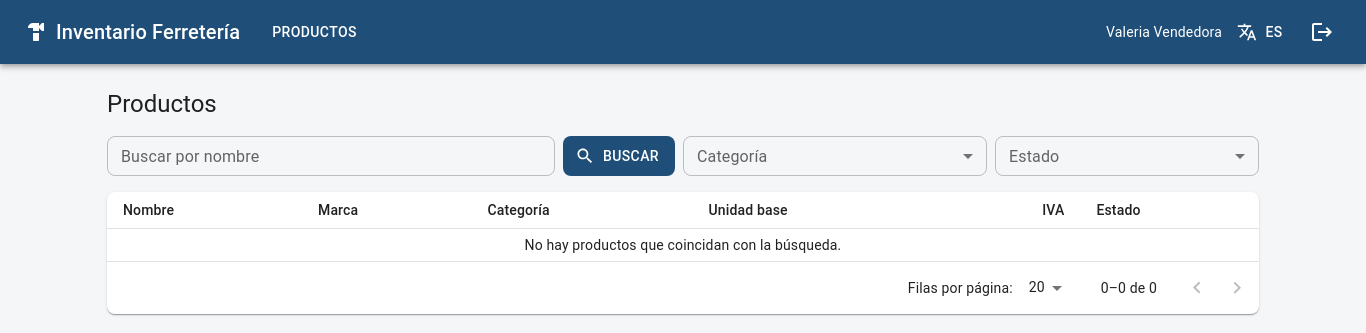
it: LanguageSelector › [RNF-INT-003] los textos propios de MUI siguen al idioma elegido
Expected: the text "Filas por página:" is shown, [908, 278, 1013, 298]
Click the button with aria-label "Cambiar idioma": (1262, 32) [1230, 14, 1294, 50]
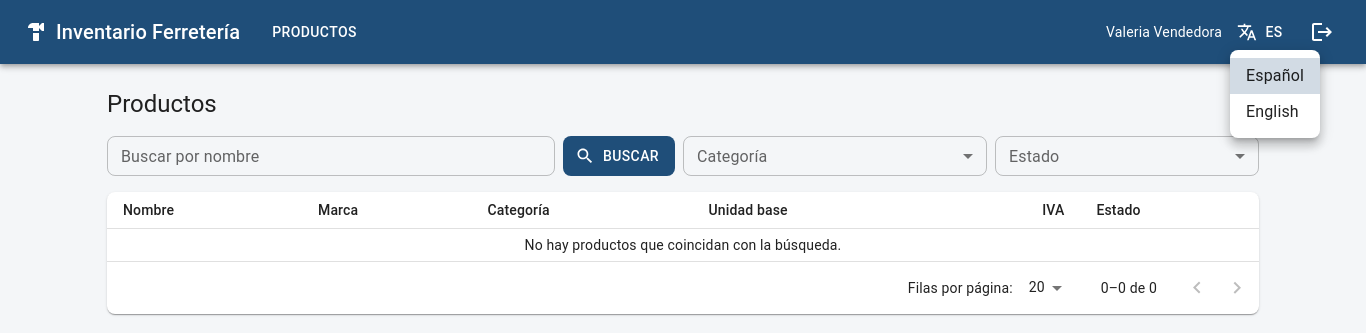
Click the menu item "English": (1272, 112) [1246, 102, 1299, 121]
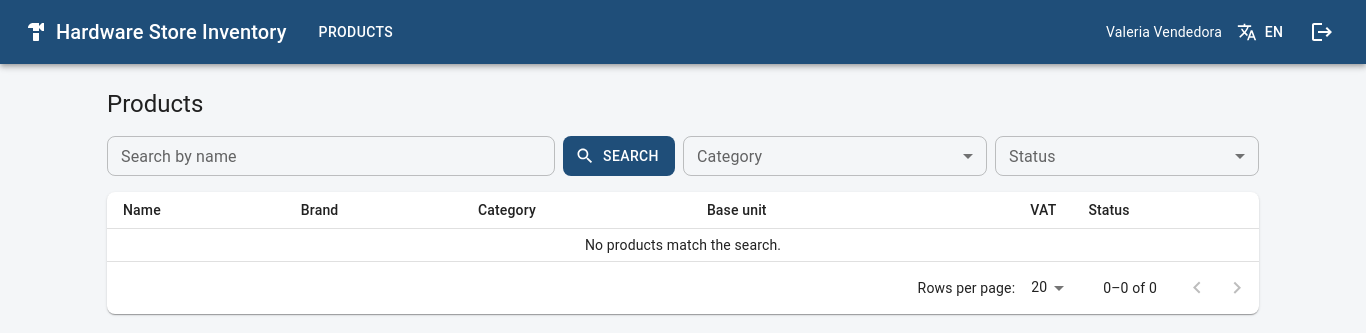
Expected: the text "Rows per page:" is shown, [918, 278, 1015, 298]
Expected: the heading "Products" is shown, [107, 88, 203, 120]
